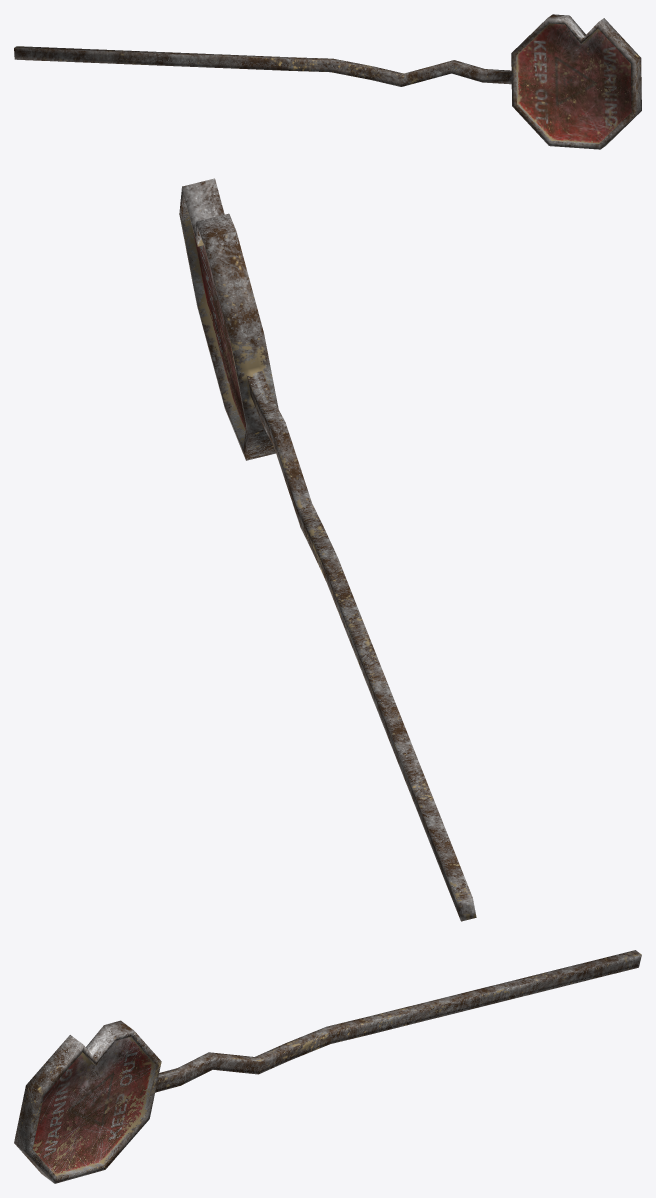
Rendered from Anim_idle_senyal_objetos.0030.obj.
The picture shows the model from 3 angles, top to bottom: view 1: azimuth 30°, elevation 25°; view 2: azimuth 150°, elevation 25°; view 3: azimuth 270°, elevation 25°; orthographic projection. The views are drawn at different scales.
Bounding box in the file's own units: 8.49 × 2.59 × 9.6.
